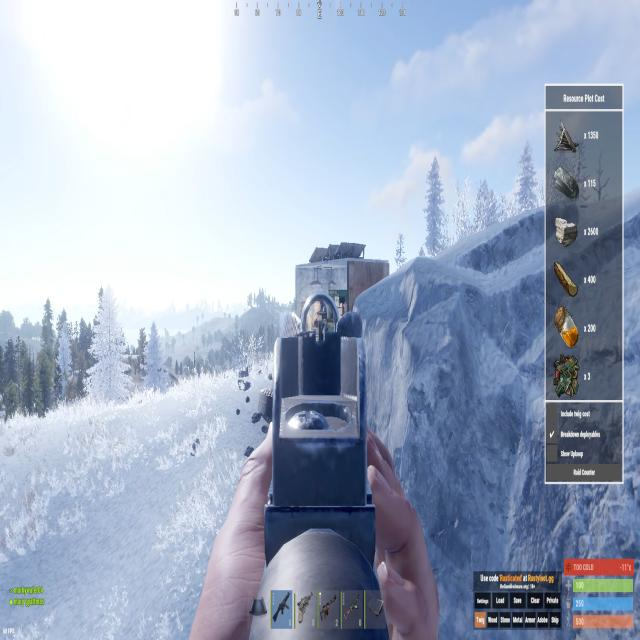Player: (319, 300, 328, 344)
